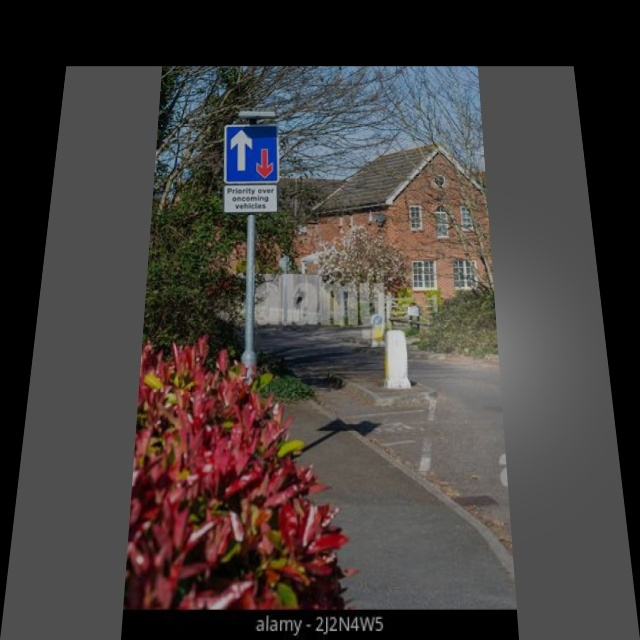Priority_for_Oncoming_Traffic: (223, 124, 280, 182)
